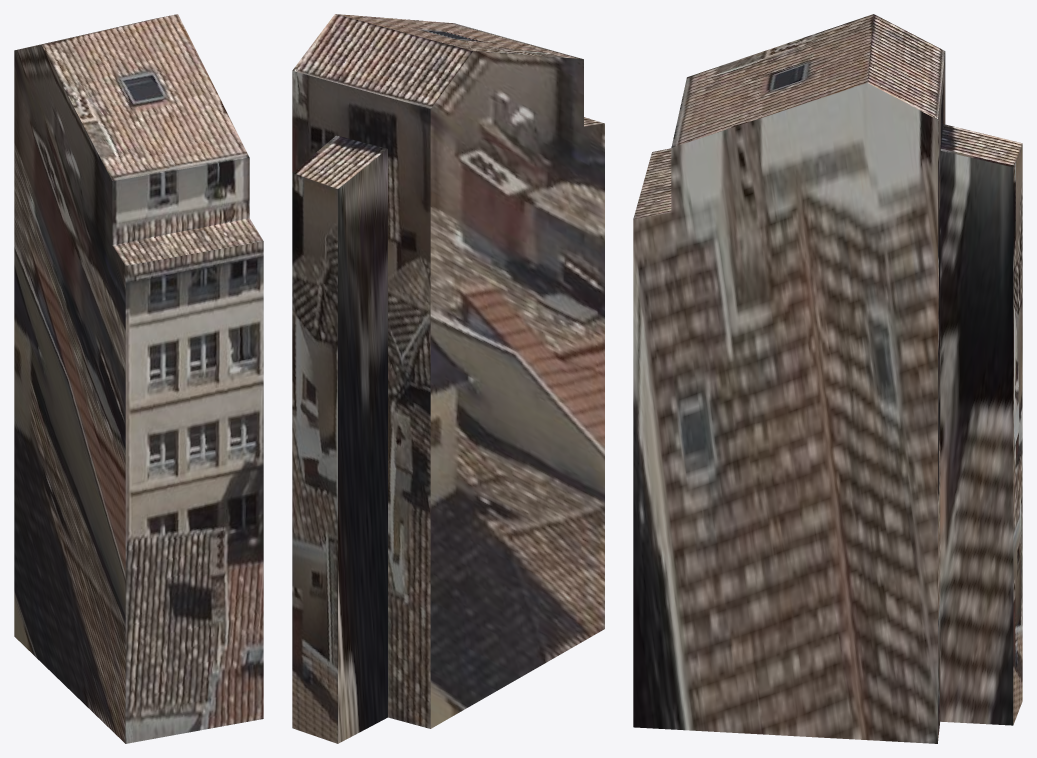
3 renders of one model, left to right at view 1: azimuth 30°, elevation 25°; view 2: azimuth 150°, elevation 25°; view 3: azimuth 270°, elevation 25°, orthographic. The views are drawn at different scales.
Parts seen in each view (by area): view 1: Z_UP; view 2: Z_UP; view 3: Z_UP.
Boxes of the visible parts, x1,y1,x2,y2 form: Z_UP: (14,14,263,743); Z_UP: (292,14,604,743); Z_UP: (633,14,1022,743).
Bounding box in the file's own units: 6.63 × 24.31 × 13.06.
2 materials, 1 textured.
